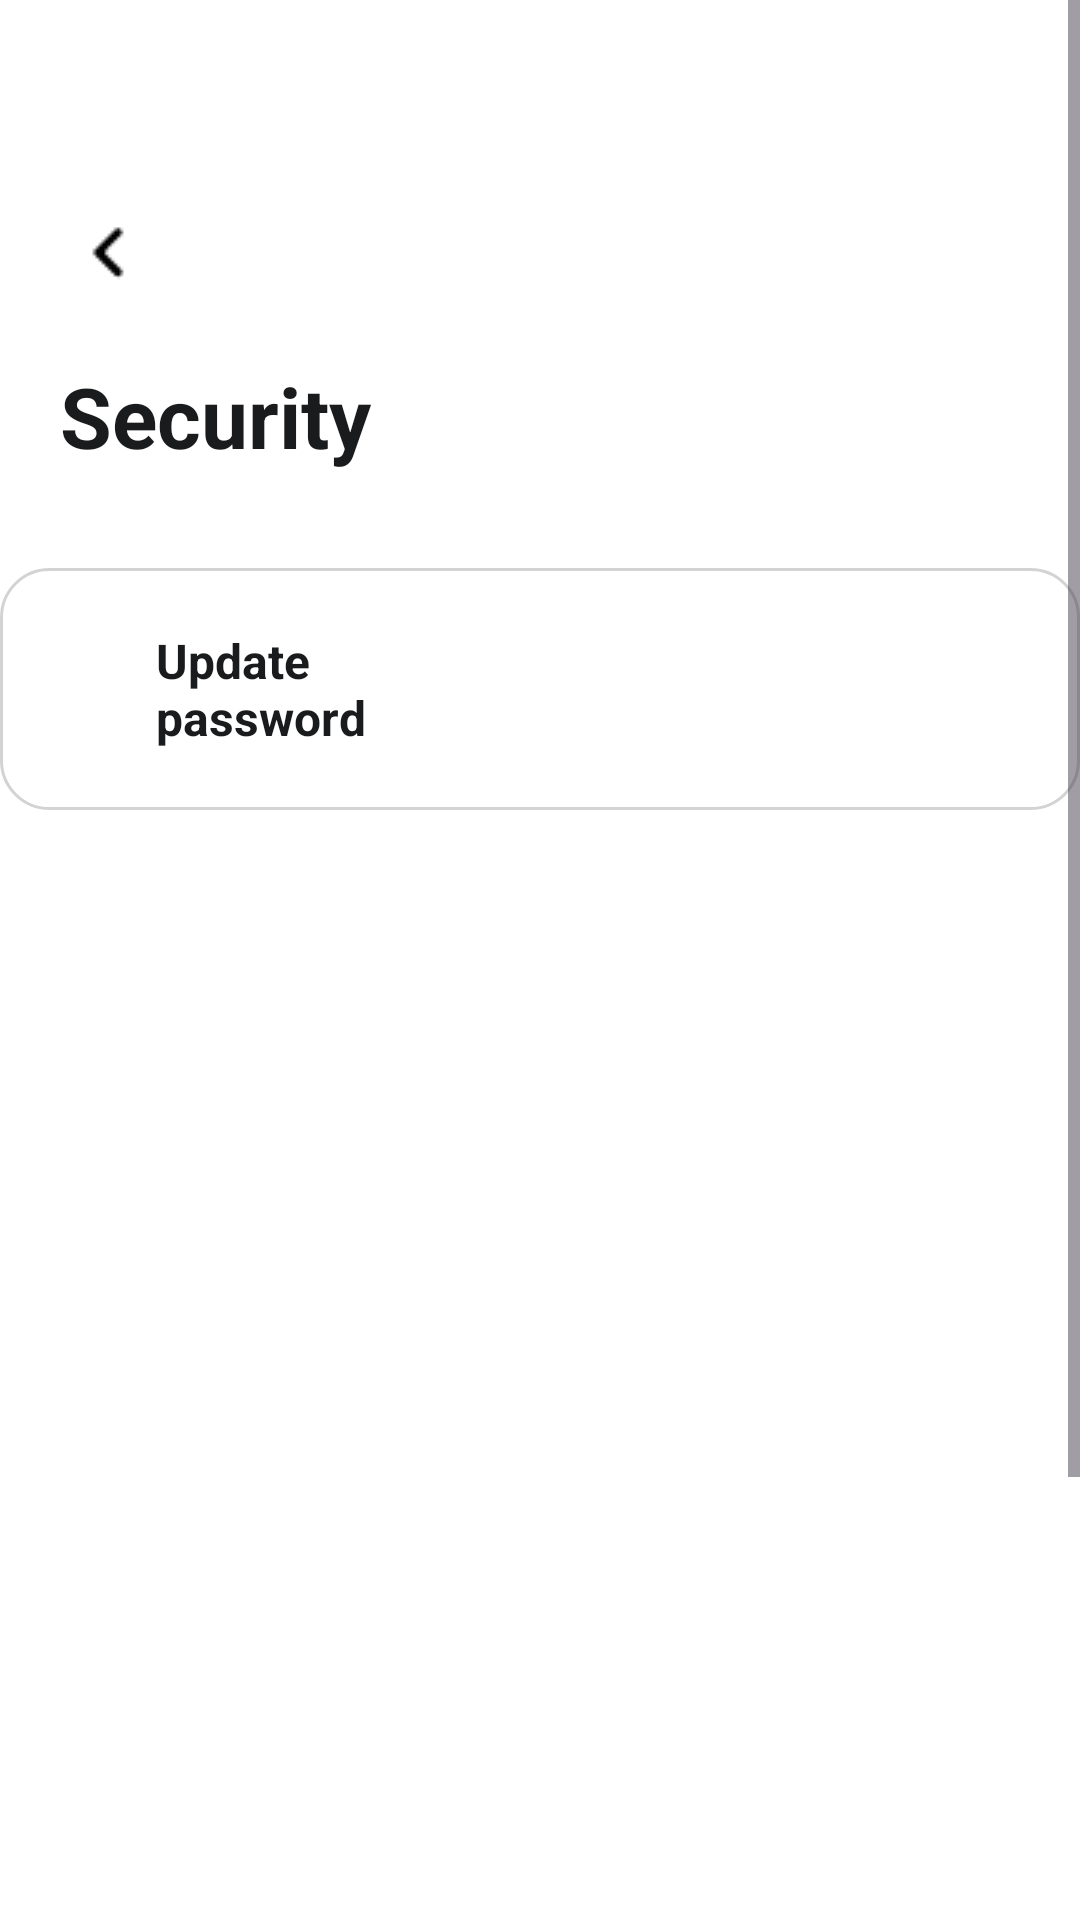

Locate icon controls on the screen. Image size 1080px x 1920px, boxes as detection(x1, y1, x2, y2).
Back: detection(92, 227, 124, 278)
